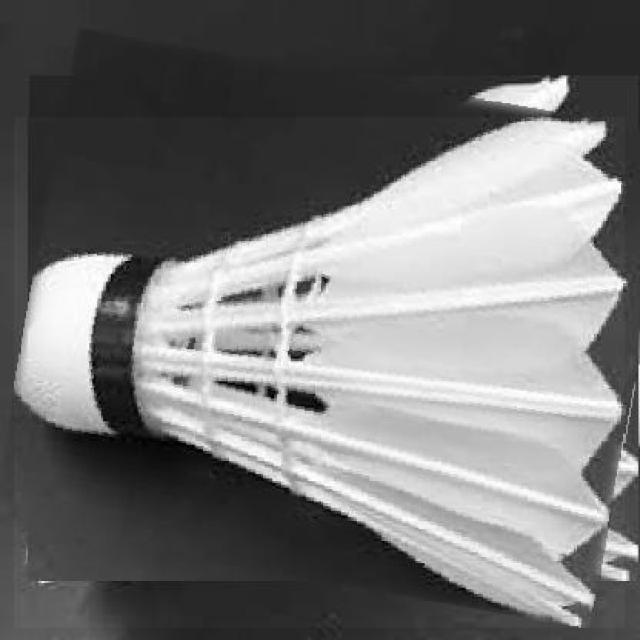Shuttlecock: (13, 117, 623, 626)
